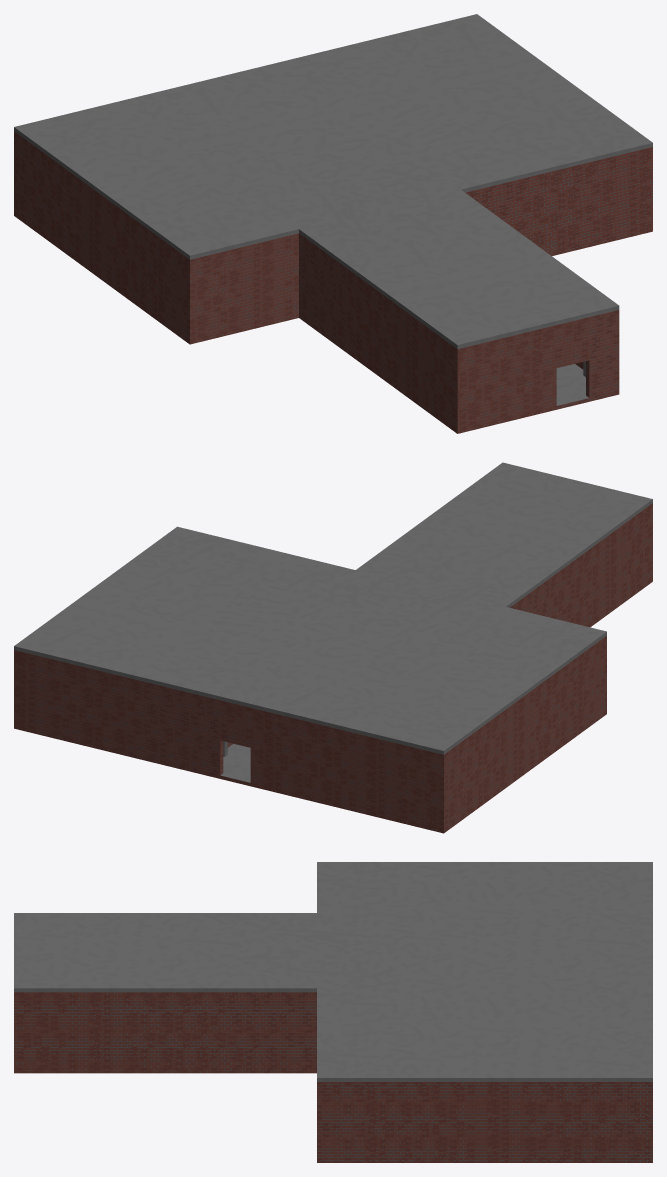
Rendered from Lab.fbx.
The picture shows the model from 3 angles, top to bottom: view 1: azimuth 30°, elevation 25°; view 2: azimuth 150°, elevation 25°; view 3: azimuth 270°, elevation 25°; orthographic projection. The views are drawn at different scales.
Visible parts, largest first — view 1: Lab; view 2: Lab; view 3: Lab.
Part boxes in pixels (x1,y1,x2,y2): Lab: (14,14,652,433); Lab: (14,462,652,833); Lab: (14,862,652,1162).
Size of the model in its own units: 3530 by 647 by 4415.
